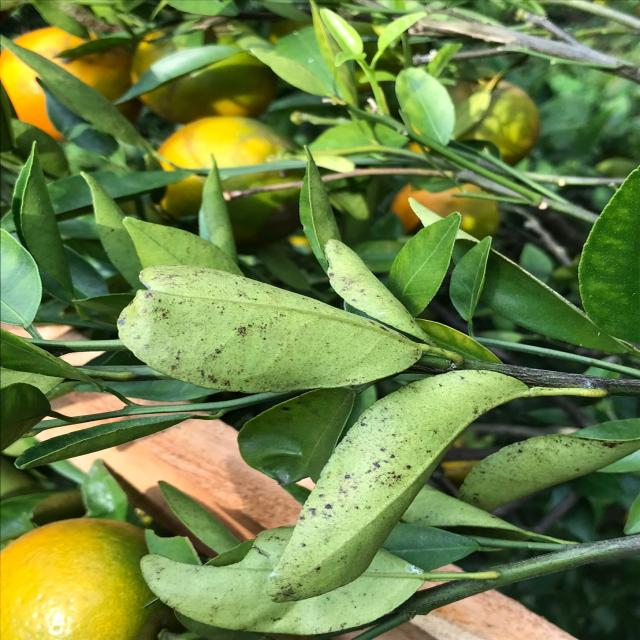melanose: (253, 366, 586, 586), (110, 250, 437, 396)
